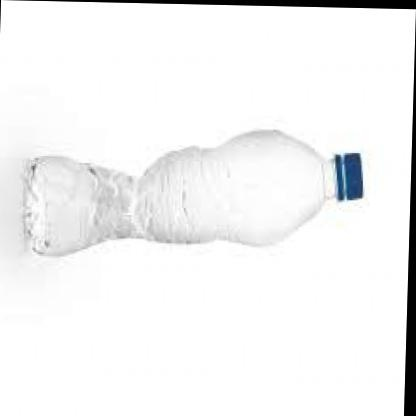trash: (24, 130, 326, 254)
